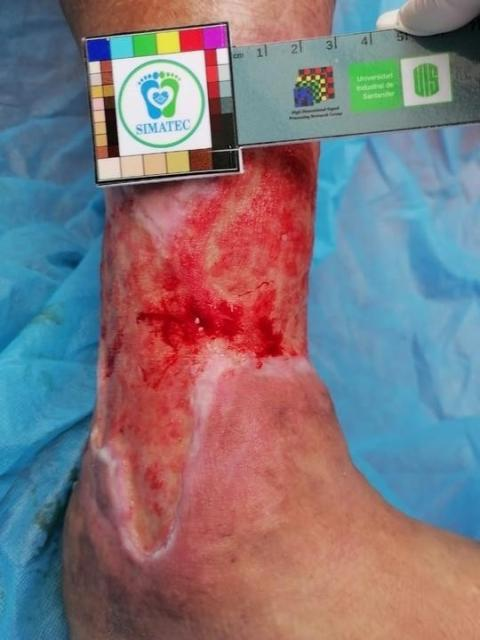wound: (98, 144, 317, 557)
